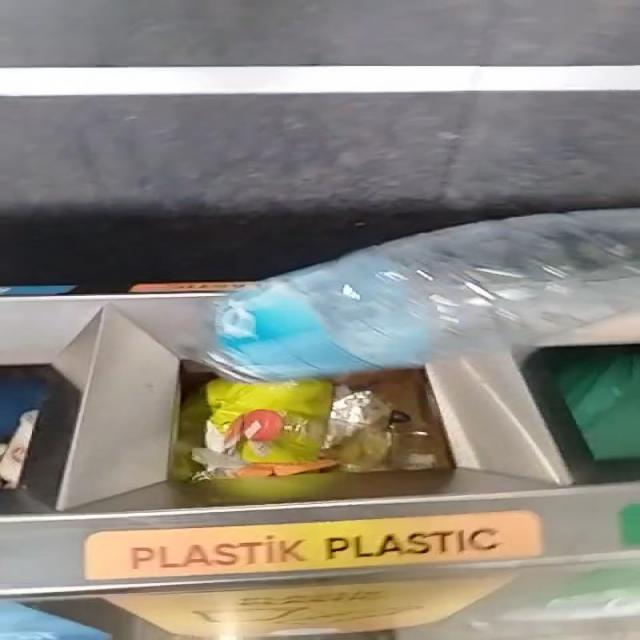plastic: (207, 210, 640, 380)
